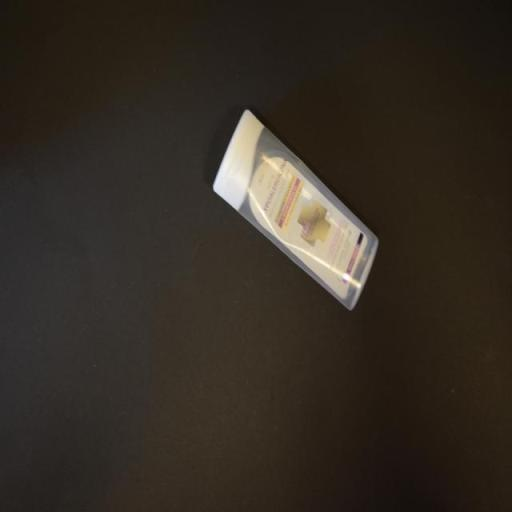plastic: (210, 111, 378, 313)
